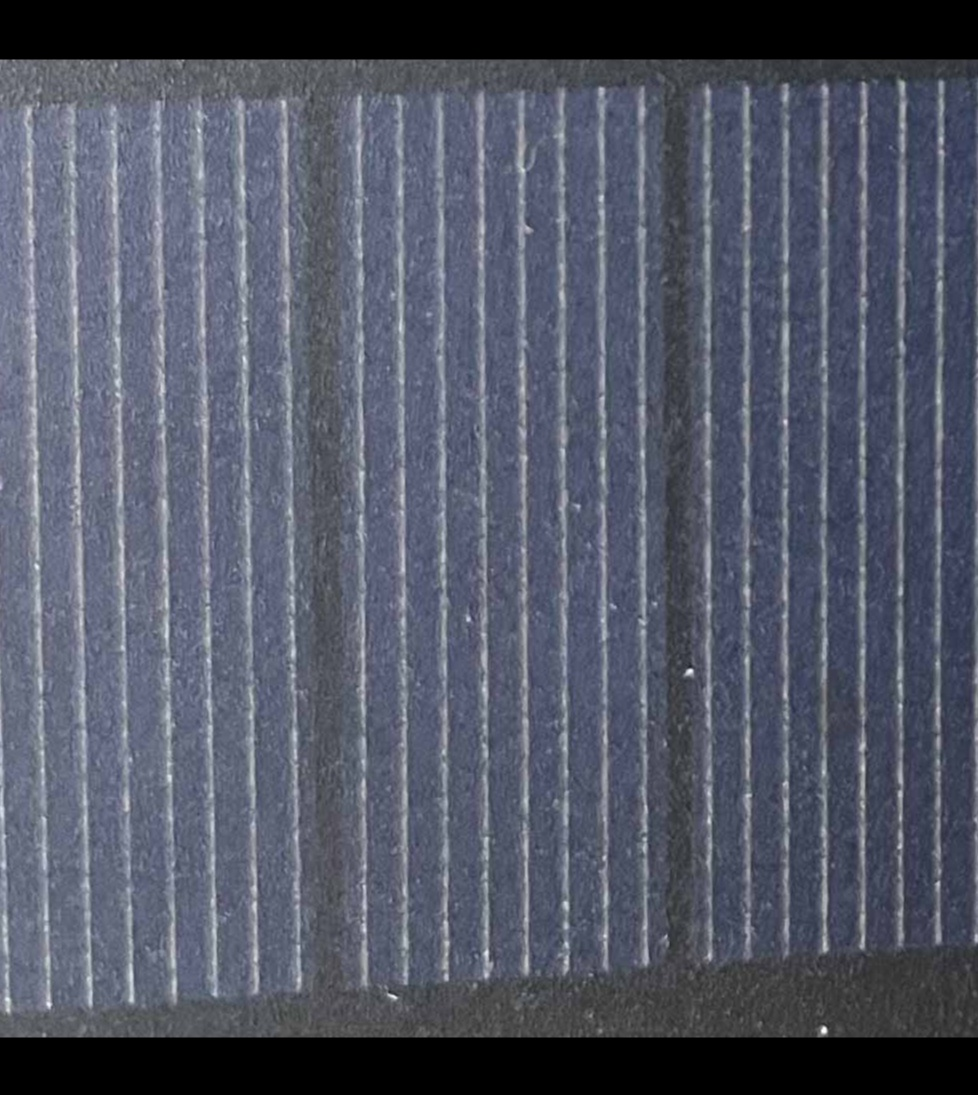Spot: (796, 648, 879, 757)
